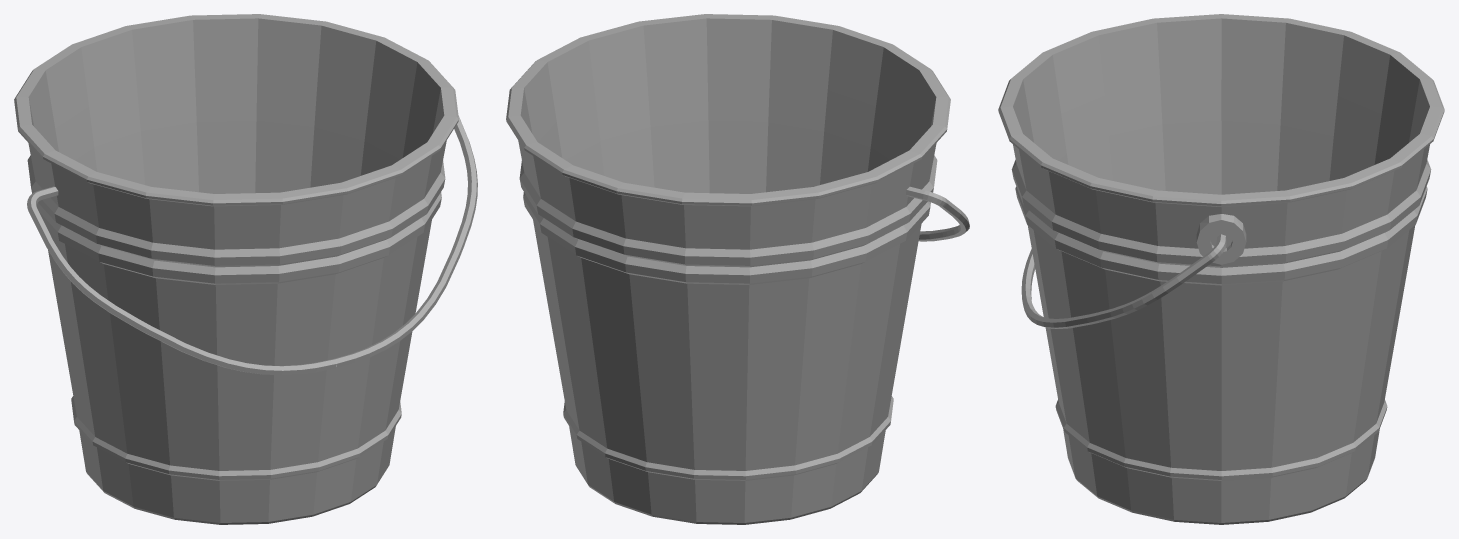
File: 528 Bucket.obj
3 renders of one model, left to right at view 1: azimuth 30°, elevation 25°; view 2: azimuth 150°, elevation 25°; view 3: azimuth 270°, elevation 25°, orthographic.
Parts seen in each view (by area): view 1: Bucket; view 2: Bucket; view 3: Bucket.
Part boxes in pixels (bbox=[...]): Bucket: bbox=[14, 14, 477, 524]; Bucket: bbox=[506, 14, 969, 524]; Bucket: bbox=[998, 14, 1444, 524].
Bounding box in the file's own units: 56.54 × 45.04 × 51.33.
1 material, 1 textured.
